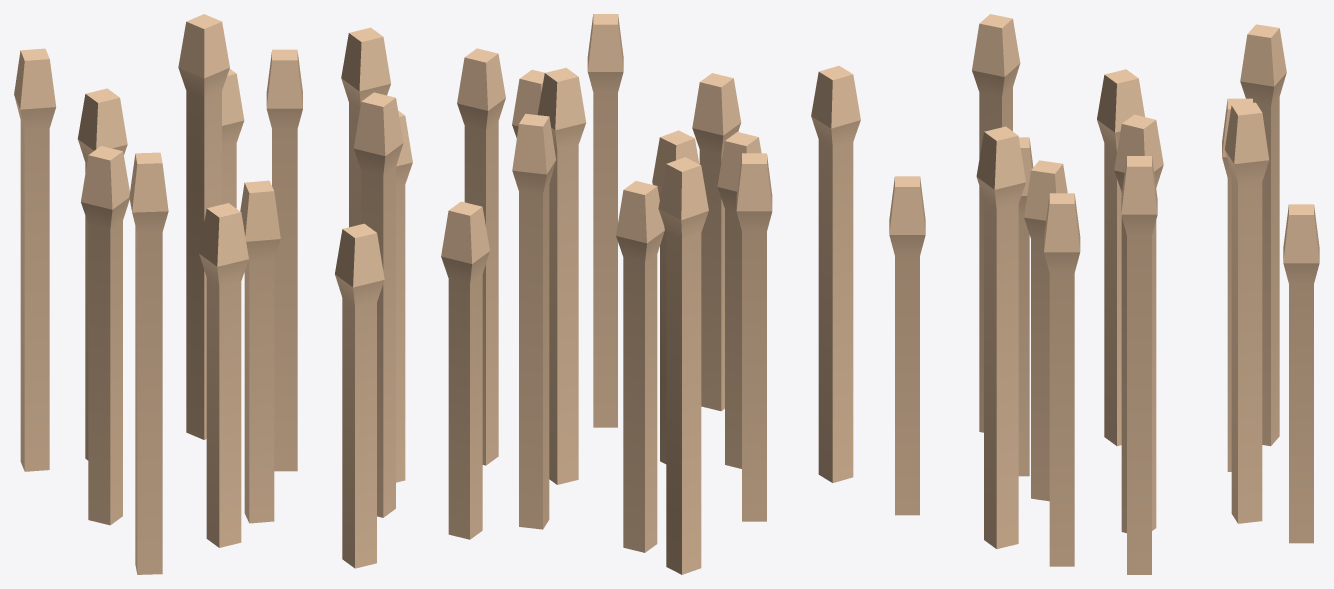
File: wheat.glb
The picture shows the model from 3 angles, left to right: view 1: azimuth 30°, elevation 25°; view 2: azimuth 150°, elevation 25°; view 3: azimuth 270°, elevation 25°; orthographic projection.
Parts seen in each view (by area): view 1: wheat; view 2: wheat; view 3: wheat.
Part boxes in pixels (x1,y1,x2,y2): wheat: [14, 14, 412, 574]; wheat: [441, 14, 860, 574]; wheat: [889, 14, 1319, 574].
Bounding box in the file's own units: 0.3112 × 0.3745 × 0.3577.
